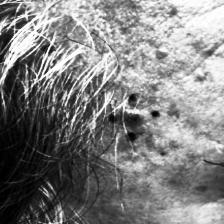Benign Marking or Mole: (119, 106, 144, 126)
